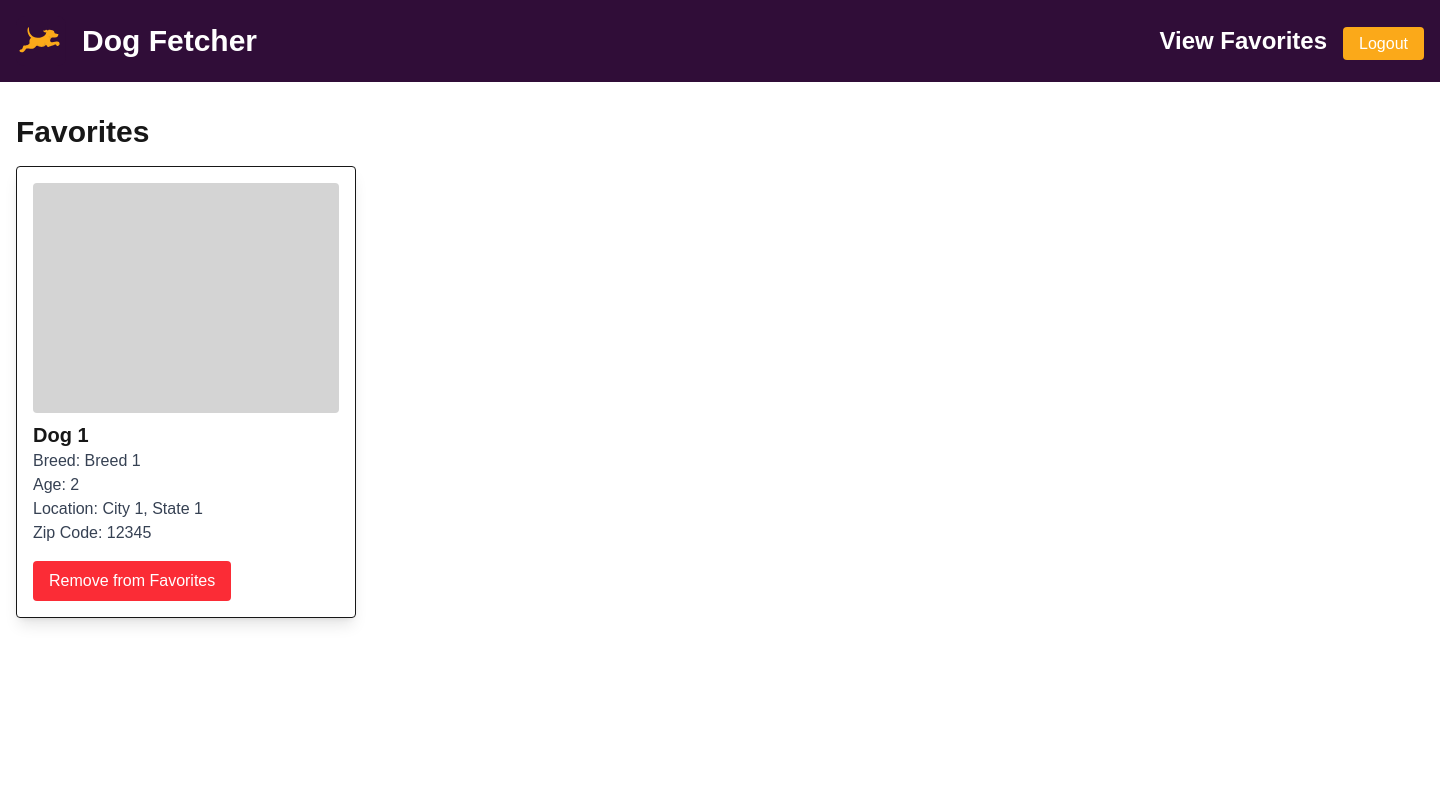
Test: Favorites › removes a favorite when the button is clicked
The image size is (1440, 810).
Expected: the heading "Dog 1" is shown, [33,424,89,446]
Click the button "Remove from Favorites": (132, 581) [33,561,231,601]
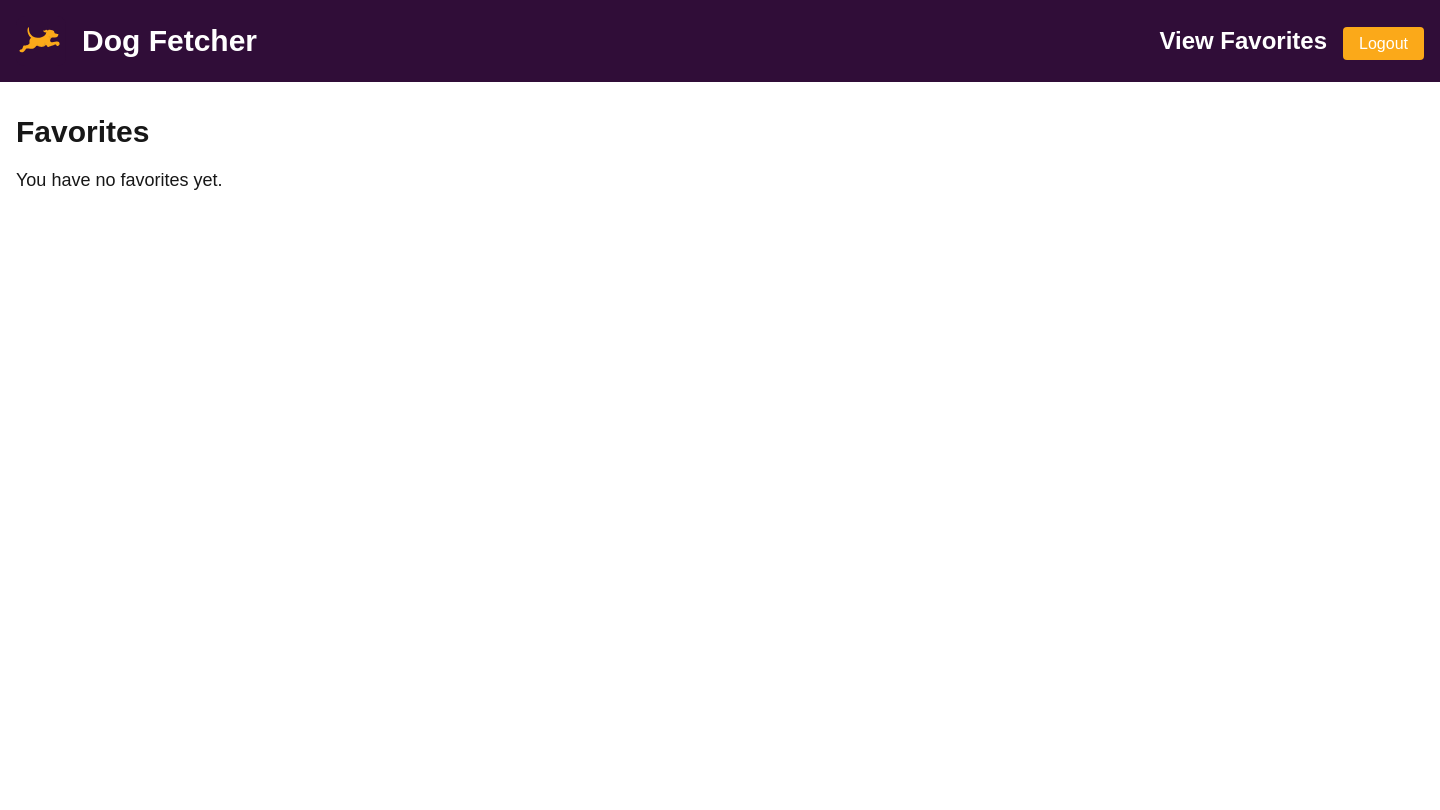
Result: the text "You have no favorites yet." is shown at [16,170,222,190]
